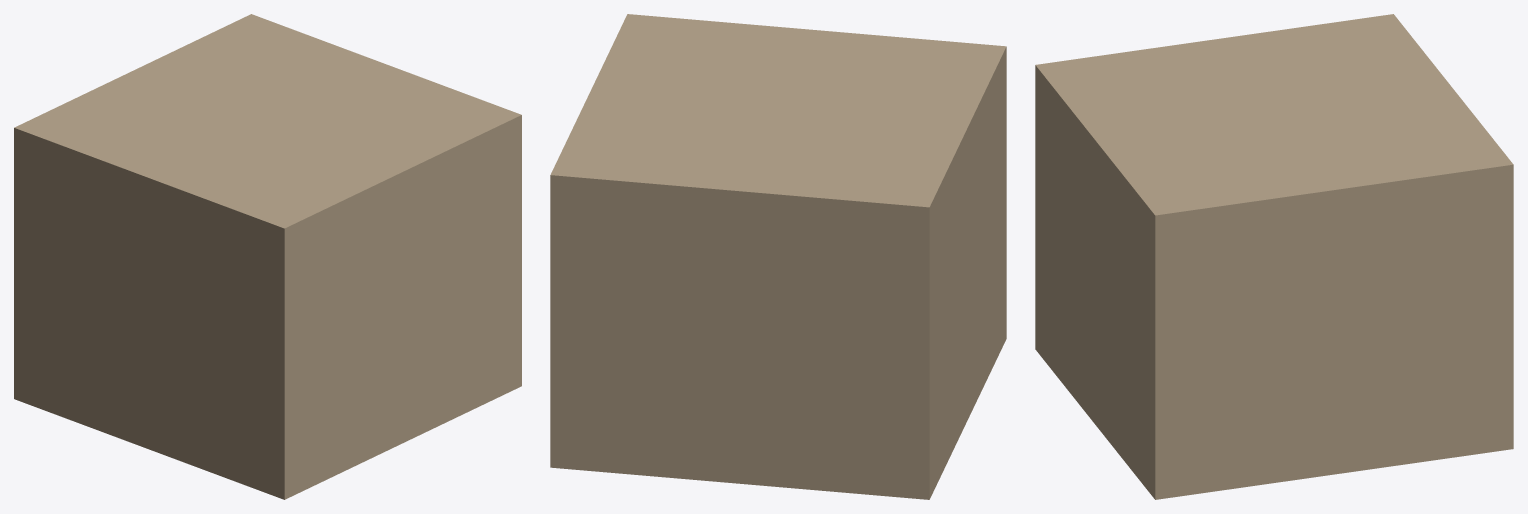
Rendered from bld_100469714.dae.
3 views of the same model, side by side, from view 1: azimuth 30°, elevation 25°; view 2: azimuth 150°, elevation 25°; view 3: azimuth 270°, elevation 25° (orthographic). The views are drawn at different scales.
Visible parts, largest first — view 1: bld_100469714; view 2: bld_100469714; view 3: bld_100469714.
Part boxes in pixels (bbox=[...]): bld_100469714: bbox=[14, 14, 521, 499]; bld_100469714: bbox=[550, 14, 1006, 499]; bld_100469714: bbox=[1035, 14, 1513, 499].
Bounding box in the file's own units: 12.16 × 12.19 × 8.
